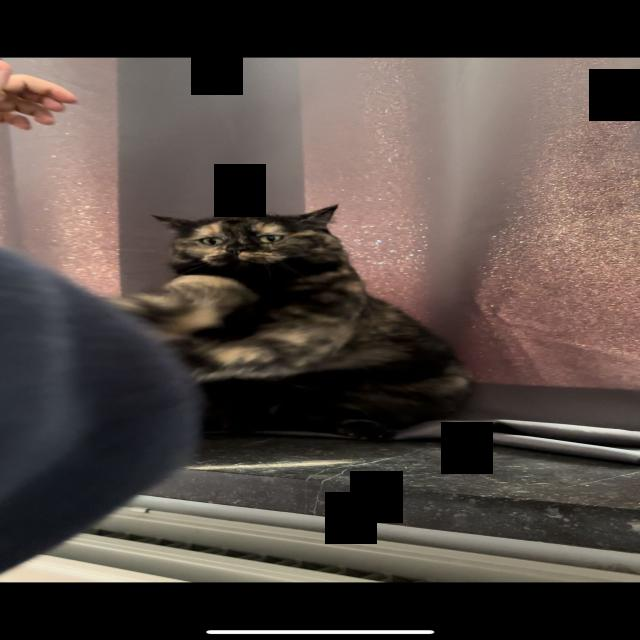authorized: (108, 203, 475, 441)
